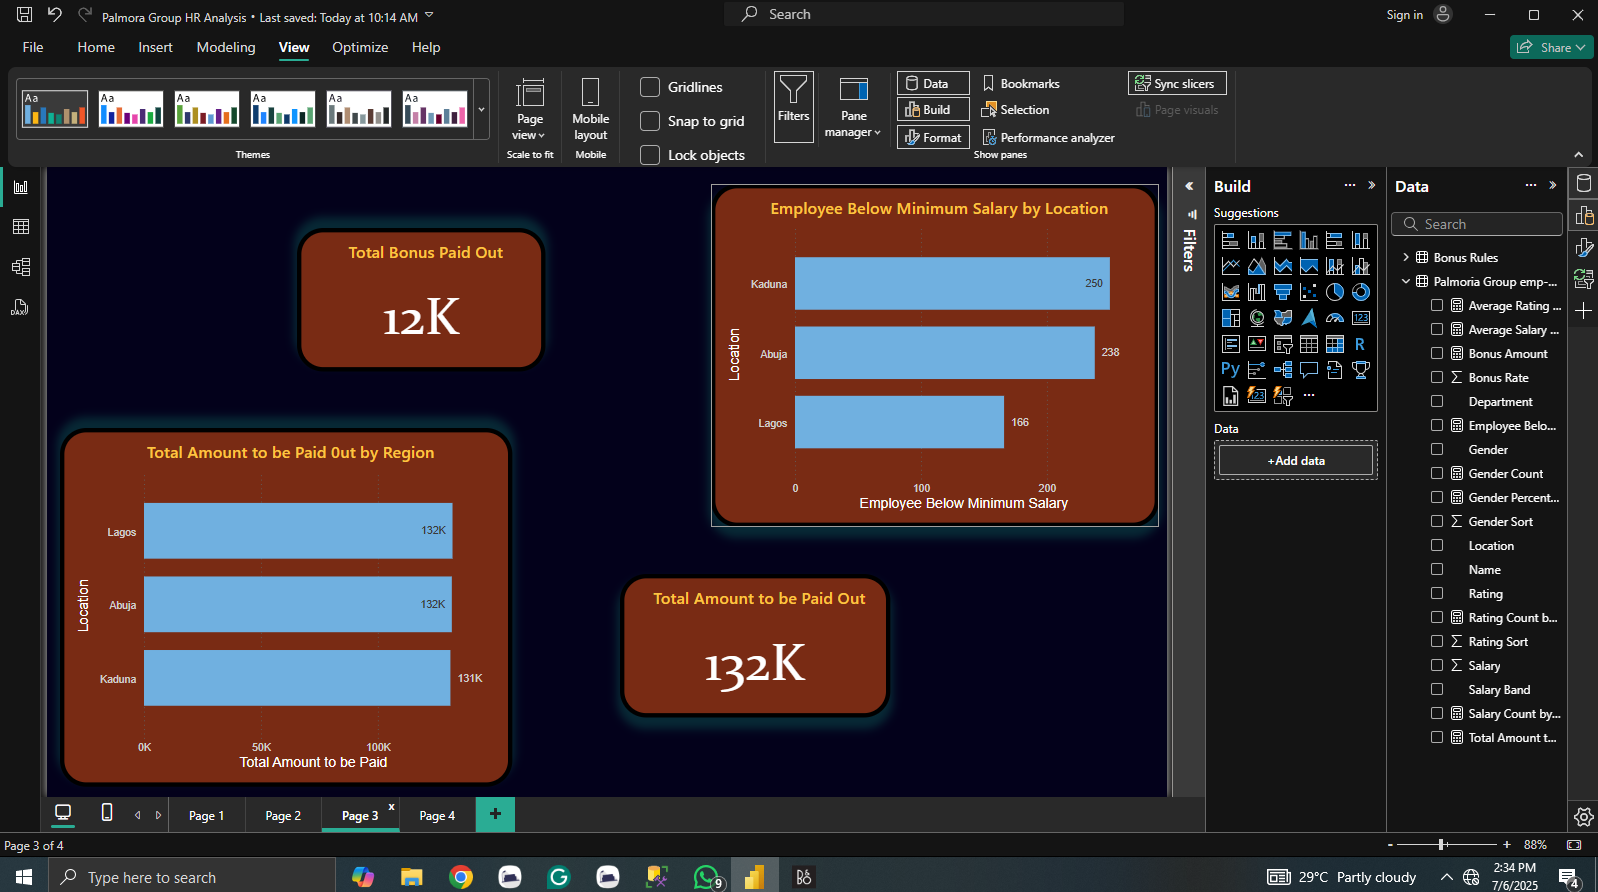

The dashboard page shown, as its layout file describes it:
{"tool":"powerbi","page":{"name":"Page 3","canvas":[1280,720],"ordinal":2},"visuals":[{"type":"clusteredBarChart","fields":{"Y":["Palmoria Group emp-data (ORIGINAL).Employee Below Minimum Salary"],"Category":["Palmoria Group emp-data (ORIGINAL).Location"]},"box":[758.6,18.9,512,392.1],"z":0},{"type":"clusteredBarChart","title":"Total Amount to be Paid 0ut by Region","fields":{"Y":["Palmoria Group emp-data (ORIGINAL).Total Amount to be Paid"],"Category":["Palmoria Group emp-data (ORIGINAL).Location"]},"box":[14.8,297.8,517.4,409.6],"z":1000},{"type":"card","title":"Total Bonus Paid Out","fields":{"Values":["Palmoria Group emp-data (ORIGINAL).Bonus Amount"]},"box":[285.6,70.1,284.3,164.4],"z":2000},{"type":"card","title":"Total Amount to be Paid Out","fields":{"Values":["Palmoria Group emp-data (ORIGINAL).Total Amount to be Paid"]},"box":[654.8,464.8,308.5,164.4],"z":3000}]}

Visuals, with their boxes on the page's 1280x720 design canvas (x1, y1, x2, y2). These are canvas units, not pixel positions in the 1598x892 screenshot, which may show the page scaled, cropped or inside an application window:
clusteredBarChart - Palmoria Group emp-data (ORIGINAL).Employee Below Minimum Salary x Palmoria Group emp-data (ORIGINAL).Location: box=[759, 19, 1271, 411]
"Total Amount to be Paid 0ut by Region" clusteredBarChart: box=[15, 298, 532, 707]
"Total Bonus Paid Out" card: box=[286, 70, 570, 234]
"Total Amount to be Paid Out" card: box=[655, 465, 963, 629]
